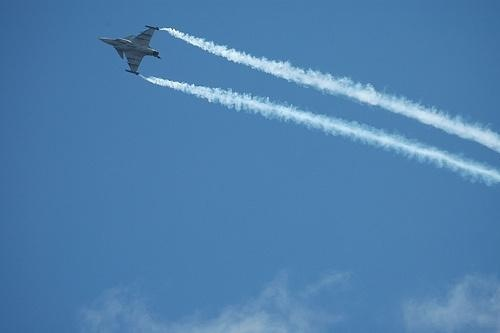aeroplane: (100, 25, 162, 75)
